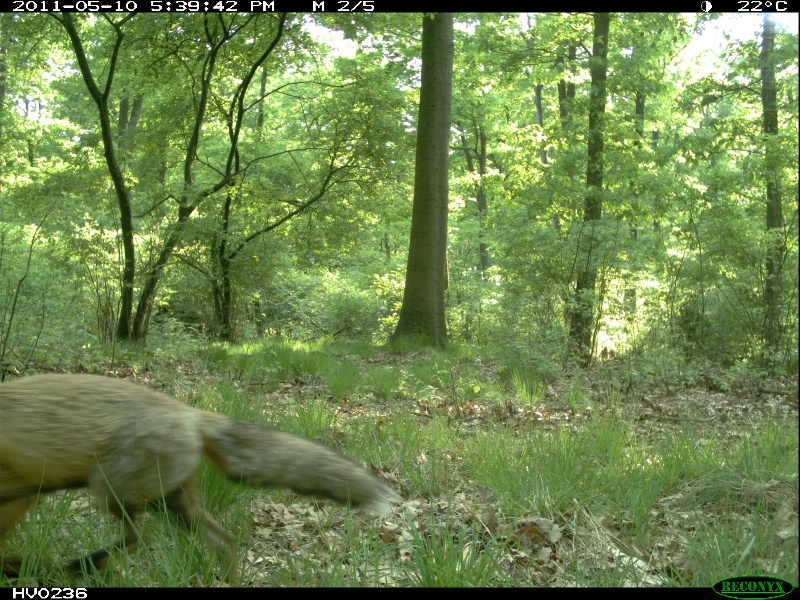fox: (1, 363, 402, 569)
